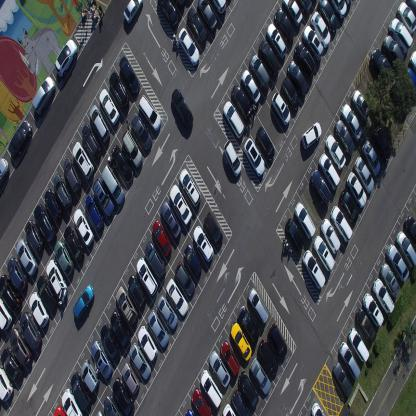car: (7, 119, 33, 161), (170, 86, 193, 130), (101, 162, 125, 204), (169, 184, 192, 227), (115, 284, 138, 327), (385, 242, 409, 283), (302, 249, 326, 290), (372, 47, 396, 88), (177, 26, 201, 66), (31, 76, 55, 116), (33, 203, 56, 244), (19, 310, 42, 351), (90, 340, 113, 381), (199, 369, 222, 410), (138, 95, 162, 134), (136, 256, 158, 298), (92, 178, 115, 218), (54, 39, 78, 77), (389, 18, 413, 56), (244, 136, 266, 177), (89, 103, 111, 144), (208, 348, 230, 389), (9, 327, 32, 366), (179, 168, 201, 208), (166, 277, 188, 317), (230, 321, 252, 361), (147, 309, 169, 349), (109, 310, 131, 350), (250, 356, 272, 396), (339, 340, 361, 380), (72, 284, 96, 320), (122, 128, 143, 169), (70, 371, 91, 412), (131, 114, 153, 153), (118, 56, 140, 95), (223, 99, 245, 138), (238, 305, 260, 344), (111, 144, 133, 183), (16, 237, 38, 276), (36, 273, 58, 312), (294, 200, 316, 239), (342, 103, 364, 142), (0, 345, 23, 382), (109, 70, 130, 110), (72, 140, 93, 180), (73, 207, 94, 247), (395, 230, 416, 270), (144, 240, 166, 278), (192, 224, 214, 262), (249, 53, 271, 91), (258, 38, 280, 76), (274, 7, 296, 45), (294, 40, 316, 78), (129, 342, 151, 380), (112, 377, 134, 415), (372, 277, 394, 315), (313, 234, 335, 272), (330, 205, 352, 243), (310, 169, 332, 207), (333, 119, 355, 157), (46, 258, 66, 299), (99, 87, 120, 126), (81, 122, 102, 161), (186, 6, 208, 43), (230, 83, 252, 120), (6, 256, 28, 293), (348, 326, 370, 363), (379, 261, 401, 298), (318, 153, 340, 190), (100, 322, 120, 362), (160, 200, 181, 238), (247, 287, 268, 325), (266, 23, 287, 61), (287, 59, 308, 97), (53, 240, 74, 278), (0, 274, 21, 312), (137, 325, 158, 363), (353, 156, 374, 194), (84, 193, 104, 232), (361, 138, 381, 177), (174, 260, 195, 297), (151, 219, 172, 256), (258, 338, 279, 375), (219, 339, 240, 376), (29, 291, 50, 328), (356, 307, 377, 344), (320, 217, 341, 254), (325, 133, 346, 170), (302, 24, 324, 59), (362, 293, 384, 328), (203, 210, 223, 248), (310, 10, 330, 48), (62, 156, 82, 194), (238, 370, 258, 408), (332, 360, 352, 398), (372, 123, 392, 161), (346, 170, 366, 208), (316, 0, 338, 34), (268, 323, 288, 360), (338, 188, 358, 225), (396, 0, 416, 37), (64, 225, 83, 263), (256, 125, 275, 162), (53, 172, 72, 209), (271, 91, 291, 126), (240, 69, 260, 104), (284, 217, 304, 252), (383, 35, 404, 68), (80, 358, 99, 394), (157, 295, 177, 329), (197, 0, 218, 32), (223, 139, 241, 176), (25, 218, 44, 253), (281, 76, 300, 110), (43, 188, 62, 222), (127, 274, 146, 308), (121, 362, 140, 396), (351, 88, 370, 122), (183, 243, 201, 278), (301, 122, 322, 152), (61, 387, 83, 415), (192, 386, 212, 416), (157, 1, 179, 27), (282, 0, 302, 28), (122, 0, 143, 26), (232, 388, 252, 415), (402, 66, 416, 101), (0, 364, 13, 401), (0, 296, 13, 331), (404, 214, 416, 248), (103, 394, 121, 415), (330, 0, 347, 19), (0, 156, 9, 186), (296, 0, 312, 16), (210, 0, 227, 15), (311, 400, 325, 416), (408, 50, 416, 74), (222, 403, 236, 415), (53, 404, 66, 415), (172, 0, 184, 8), (185, 408, 195, 415), (95, 410, 104, 416)
